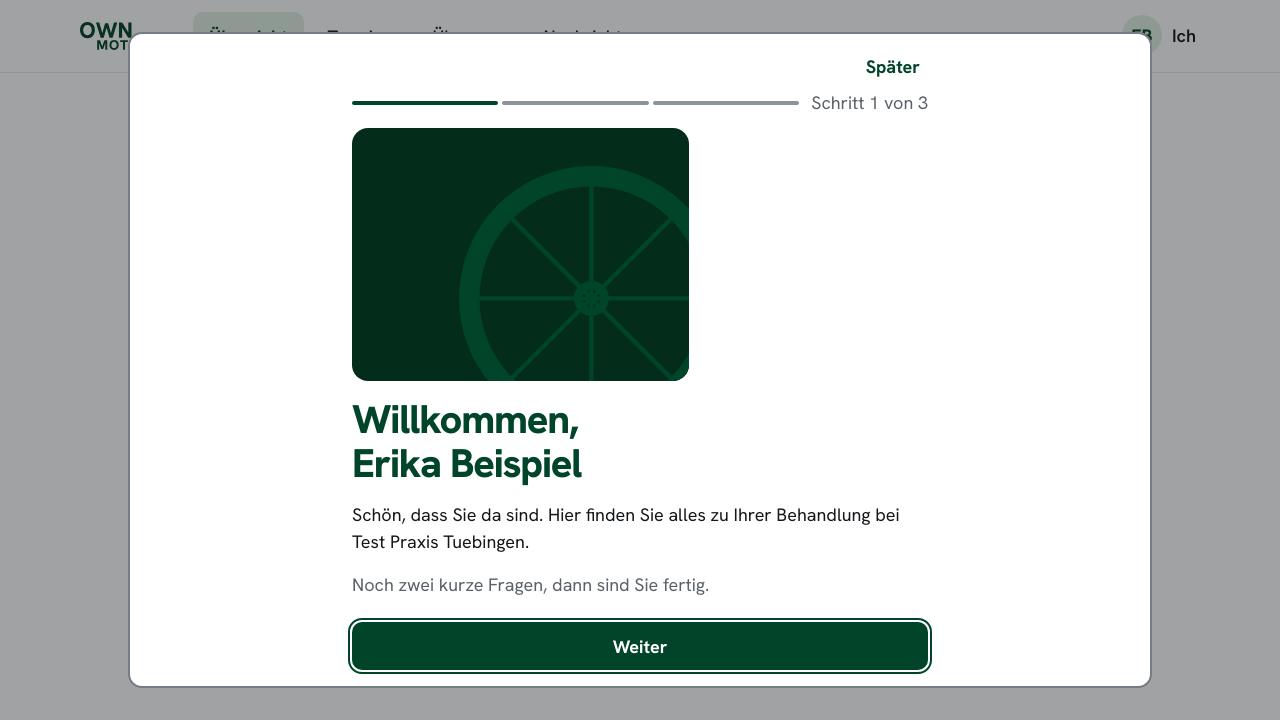
Einstieg: Einwilligungen (DRP-017) › nimmt die Wahl zurück und sagt es, wenn das Speichern scheitert
Click the button "Weiter" at (640, 646), box [352,622,928,670]
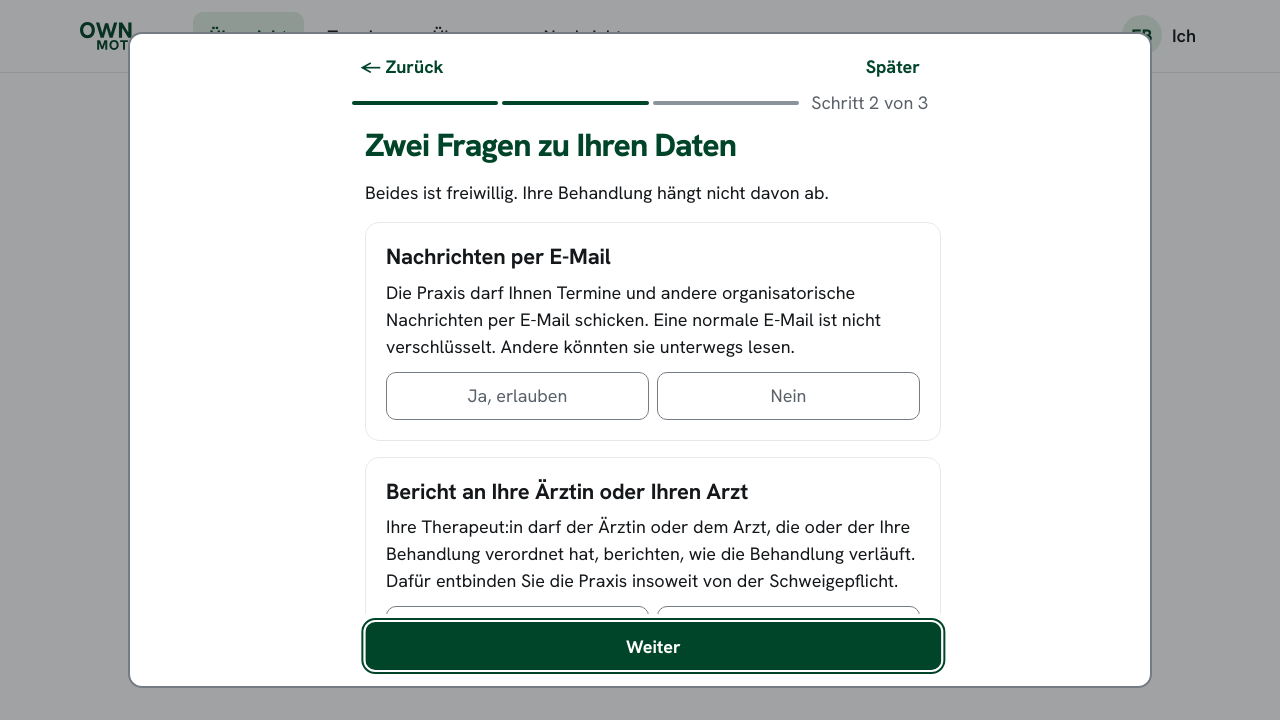
Click the 1st button "Ja, erlauben" at (518, 396), box [386,372,649,420]
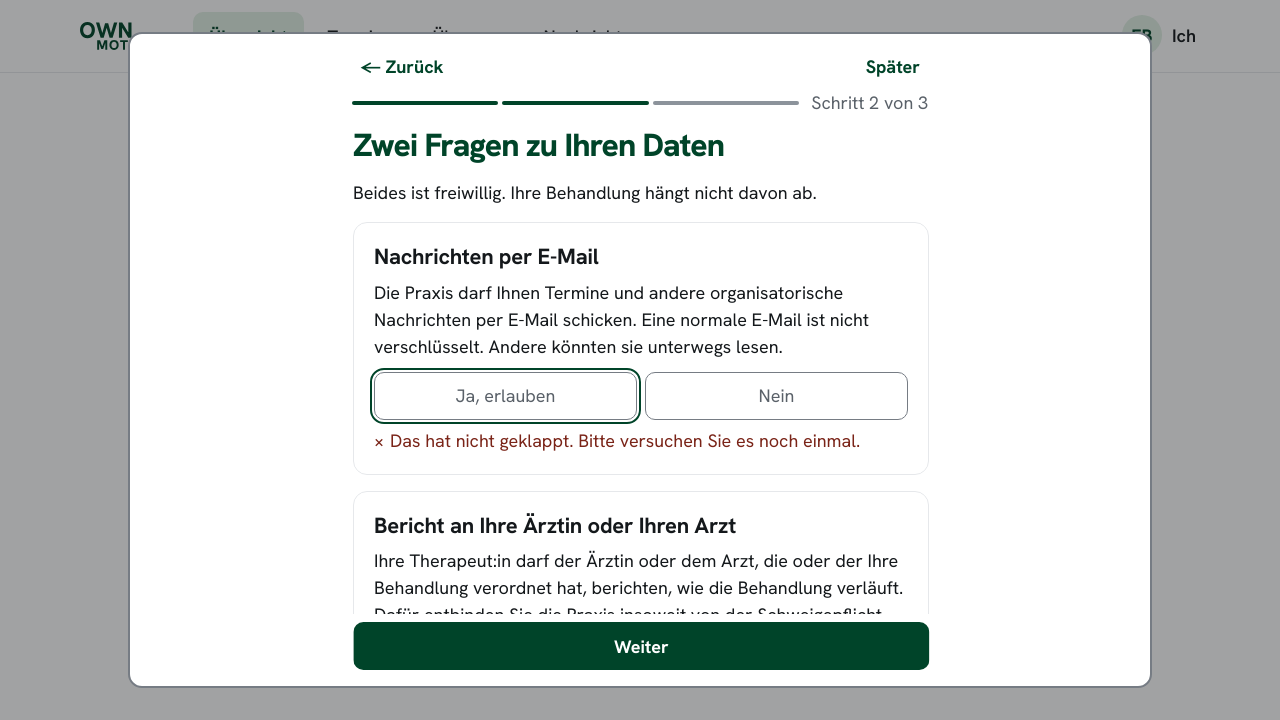
Now the text "Das hat nicht geklappt. Bitte versuchen Sie es noch einmal." is shown, box [390,429,861,452]
